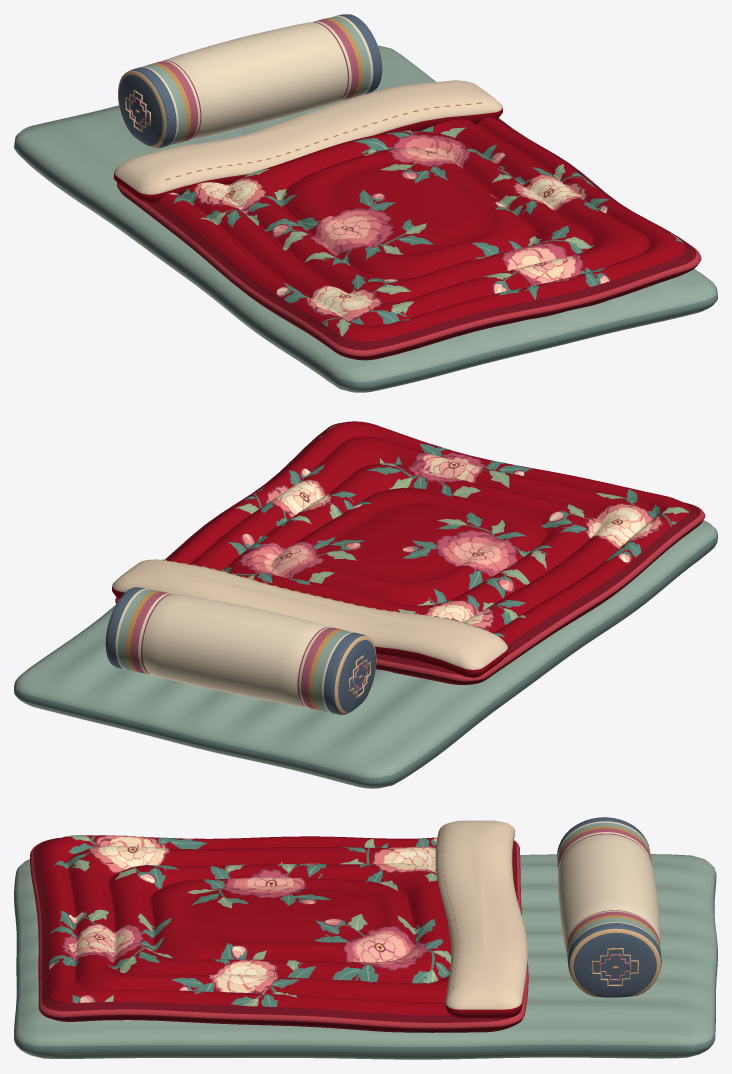
Rendered from grandmas-floor-bedding.glb.
3 views of the same model, one above another, from view 1: azimuth 30°, elevation 25°; view 2: azimuth 150°, elevation 25°; view 3: azimuth 270°, elevation 25° (orthographic).
Parts seen in each view (by area): view 1: grandmasFloorBedding; view 2: grandmasFloorBedding; view 3: grandmasFloorBedding.
Part boxes in pixels (x1,y1,x2,y2): grandmasFloorBedding: [14, 14, 717, 392]; grandmasFloorBedding: [14, 421, 717, 788]; grandmasFloorBedding: [14, 817, 717, 1059].
Bounding box in the file's own units: 1.88 × 0.4774 × 2.94.
